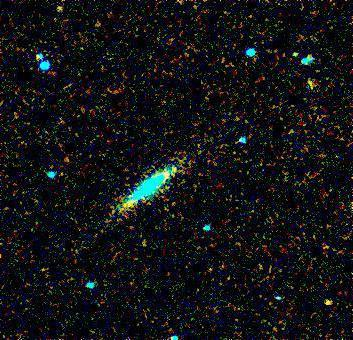star: (306, 288, 336, 318)
